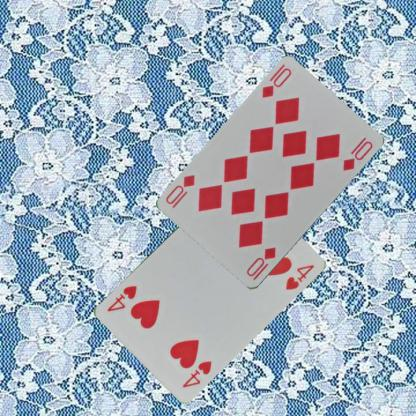10d: (259, 65, 293, 100), (244, 245, 278, 278)
4h: (180, 358, 213, 388)
